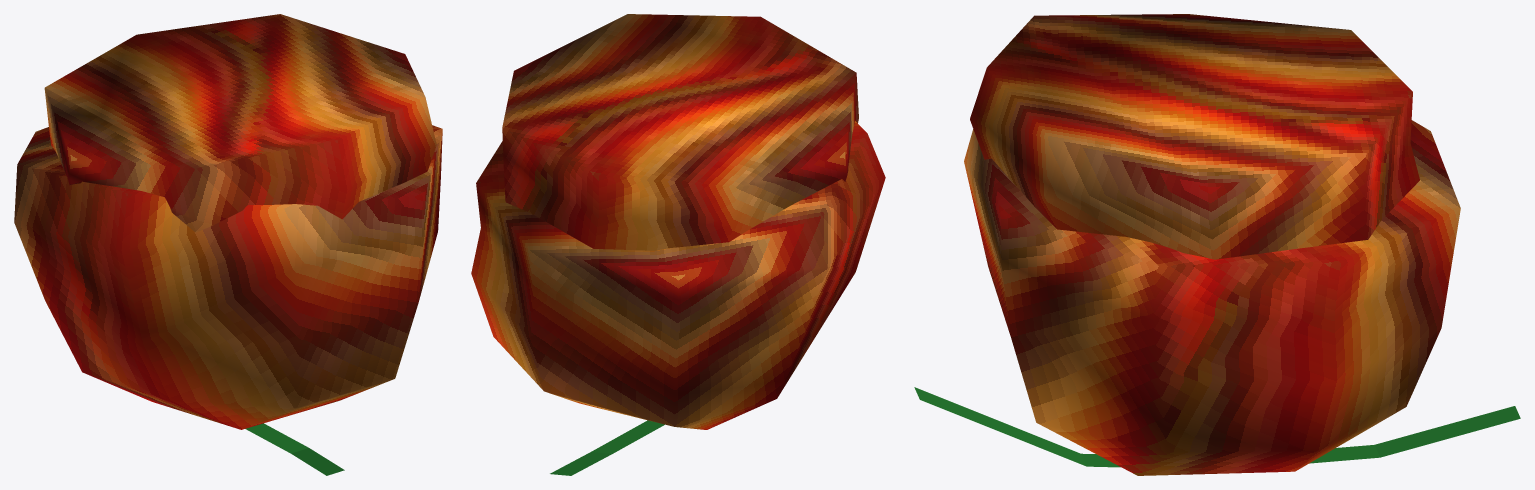
File: H_RatatouillePiece.fbx
3 views of the same model, side by side, from view 1: azimuth 30°, elevation 25°; view 2: azimuth 150°, elevation 25°; view 3: azimuth 270°, elevation 25° (orthographic). The views are drawn at different scales.
Parts seen in each view (by area): view 1: Ratatouille; view 2: Ratatouille; view 3: Ratatouille.
Boxes of the visible parts, x1,y1,x2,y2 form: Ratatouille: [14, 14, 442, 475]; Ratatouille: [471, 14, 885, 475]; Ratatouille: [914, 14, 1520, 475].
Bounding box in the file's own units: 18.39 × 16.34 × 22.55.
